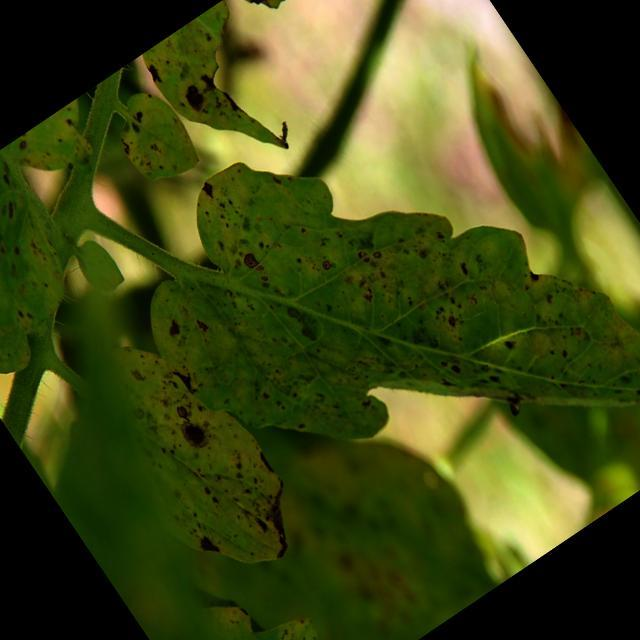Tomato Septoria spot leaf: (92, 3, 640, 628), (62, 306, 323, 608), (98, 78, 216, 208)
